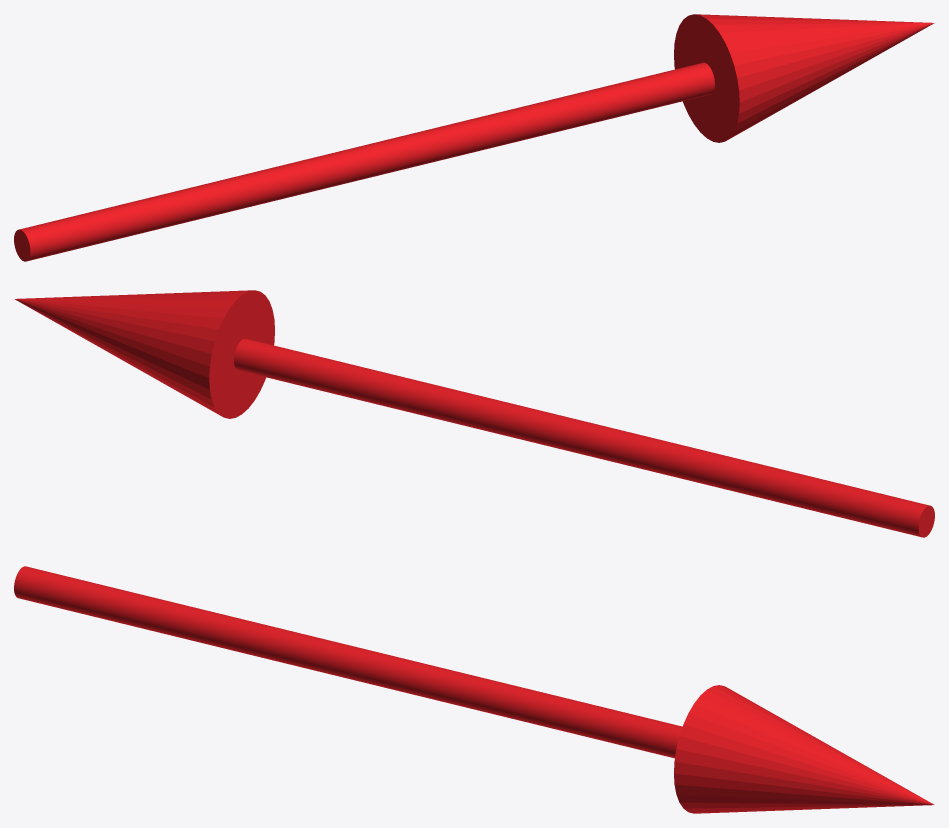
The model's file is translate_1_axis.obj.
The picture shows the model from 3 angles, top to bottom: view 1: azimuth 30°, elevation 25°; view 2: azimuth 150°, elevation 25°; view 3: azimuth 330°, elevation 25°; orthographic projection.
Parts seen in each view (by area): view 1: gizmo.001_Cone.000; view 2: gizmo.001_Cone.000; view 3: gizmo.001_Cone.000.
Boxes of the visible parts, x1,y1,x2,y2 form: gizmo.001_Cone.000: (14, 14, 934, 261); gizmo.001_Cone.000: (14, 290, 934, 537); gizmo.001_Cone.000: (14, 566, 934, 813).
Bounding box in the file's own units: 8 × 1 × 1.
